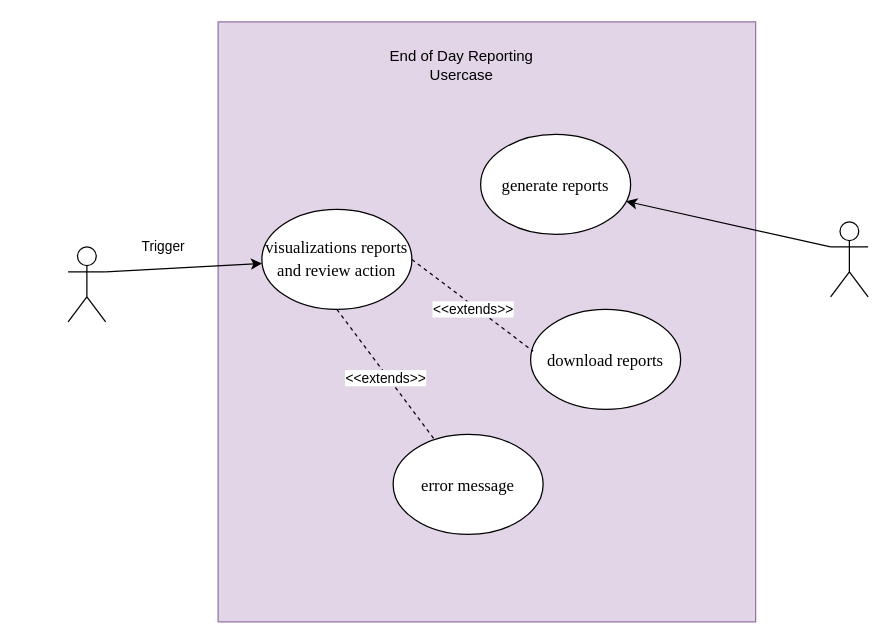
Some shapes in this 896 by 644 pixel diagram are drawn without their labels. The box of each missing label's shape, as (x1, y1, x2, y2) in pixels:
Pharmacy Manager: (67, 246, 106, 322)
System: (829, 221, 868, 297)
